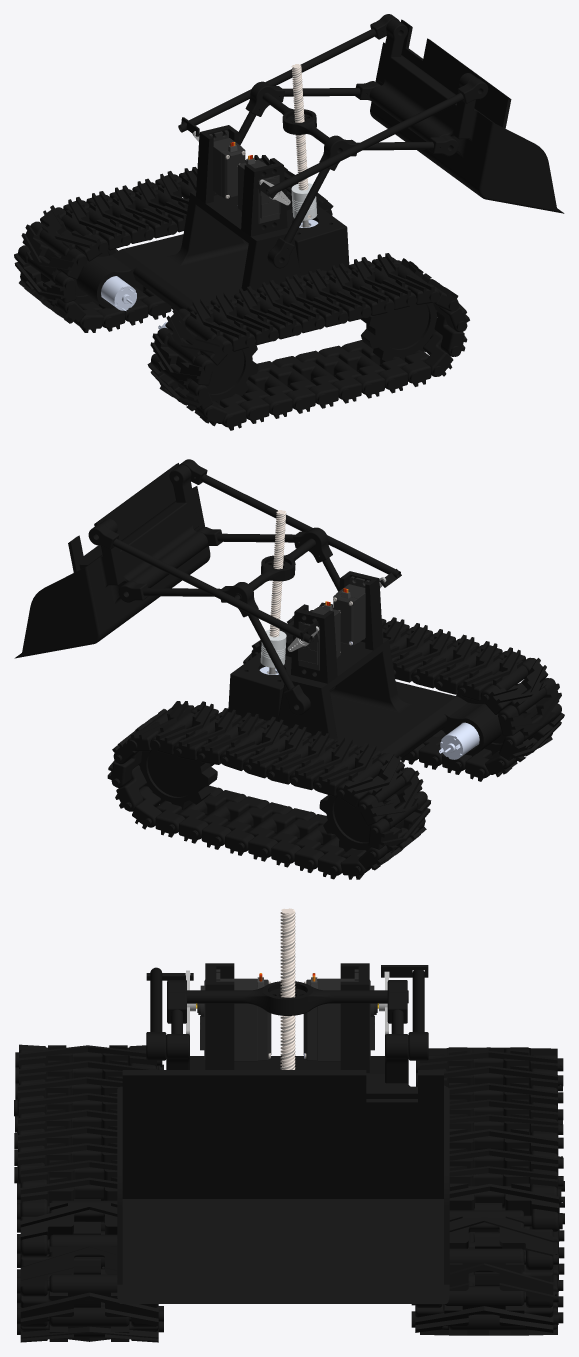
Rendered from rover_model.glb.
The picture shows the model from 3 angles, top to bottom: view 1: azimuth 30°, elevation 25°; view 2: azimuth 150°, elevation 25°; view 3: azimuth 270°, elevation 25°; orthographic projection. The views are drawn at different scales.
Parts seen in each view (by area): view 1: Part 2, Part 5, Part 20, Part, Part 19; view 2: Part 2, Part 5, Part, Part 20, Part 19; view 3: Part 2, Part 5, Part 20, Part 3.
Part boxes in pixels (x1,y1,x2,y2): Part 2: [14, 14, 564, 430]; Part 5: [209, 130, 280, 223]; Part 20: [291, 64, 310, 218]; Part: [101, 276, 167, 329]; Part 19: [291, 183, 317, 220]; Part 2: [14, 459, 564, 879]; Part 5: [298, 576, 369, 670]; Part: [439, 722, 479, 759]; Part 20: [269, 510, 286, 637]; Part 19: [260, 630, 286, 667]; Part 2: [14, 963, 564, 1342]; Part 5: [197, 969, 377, 1061]; Part 20: [280, 908, 295, 1069]; Part 3: [268, 913, 306, 1069].
Bounding box in the file's own units: 0.3859 × 0.2401 × 0.3034.
